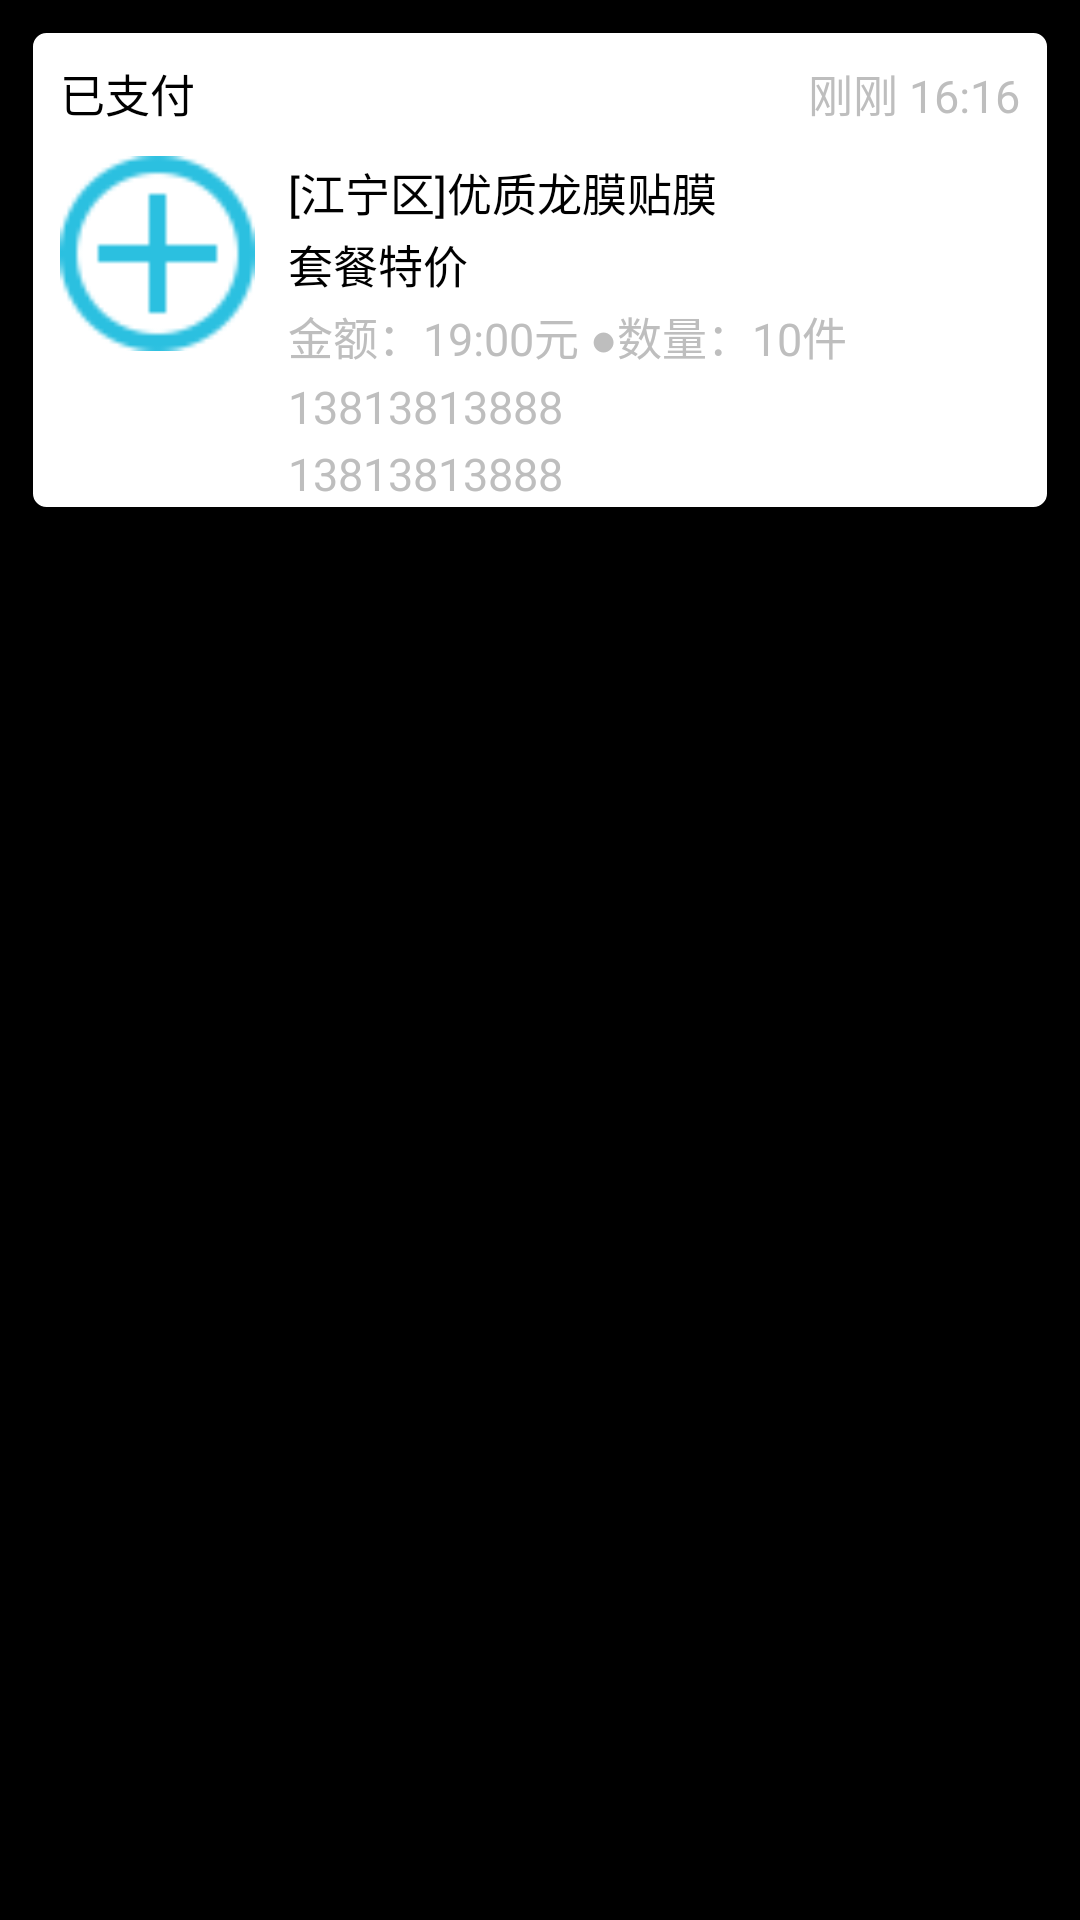

Named icons in this screenshot (1080w x 1920h) and their centers, point (x, y):
add account: point (157, 253)
